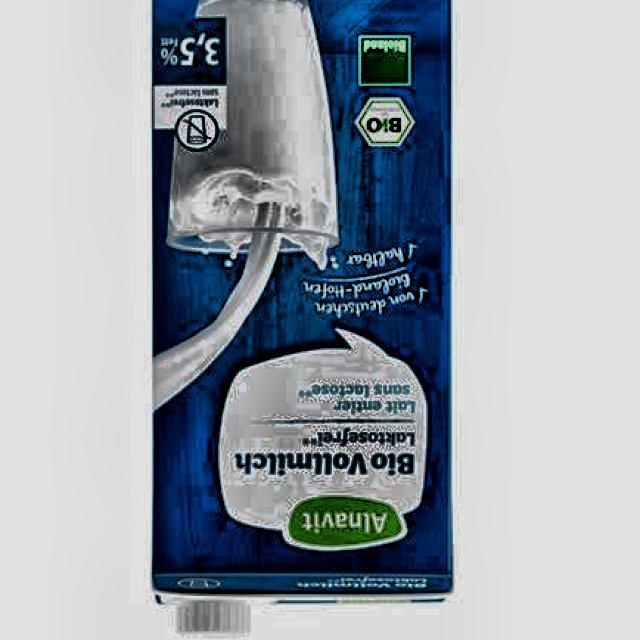cardboard: (150, 0, 454, 618)
